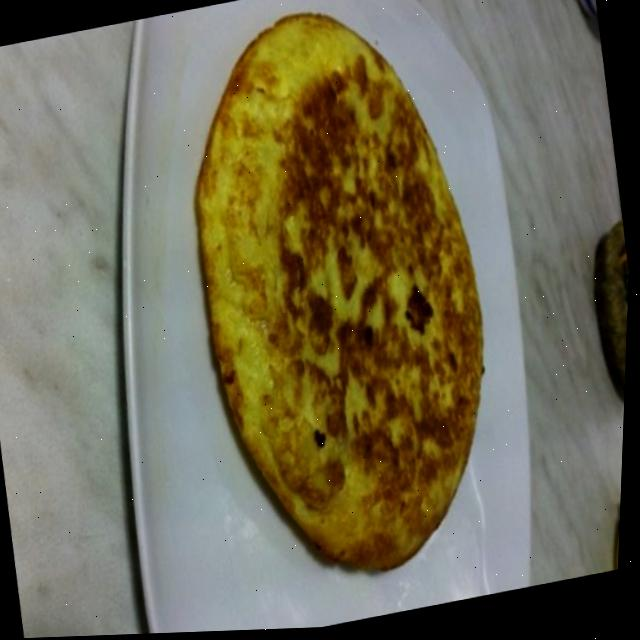面包点心: (149, 0, 568, 607)
